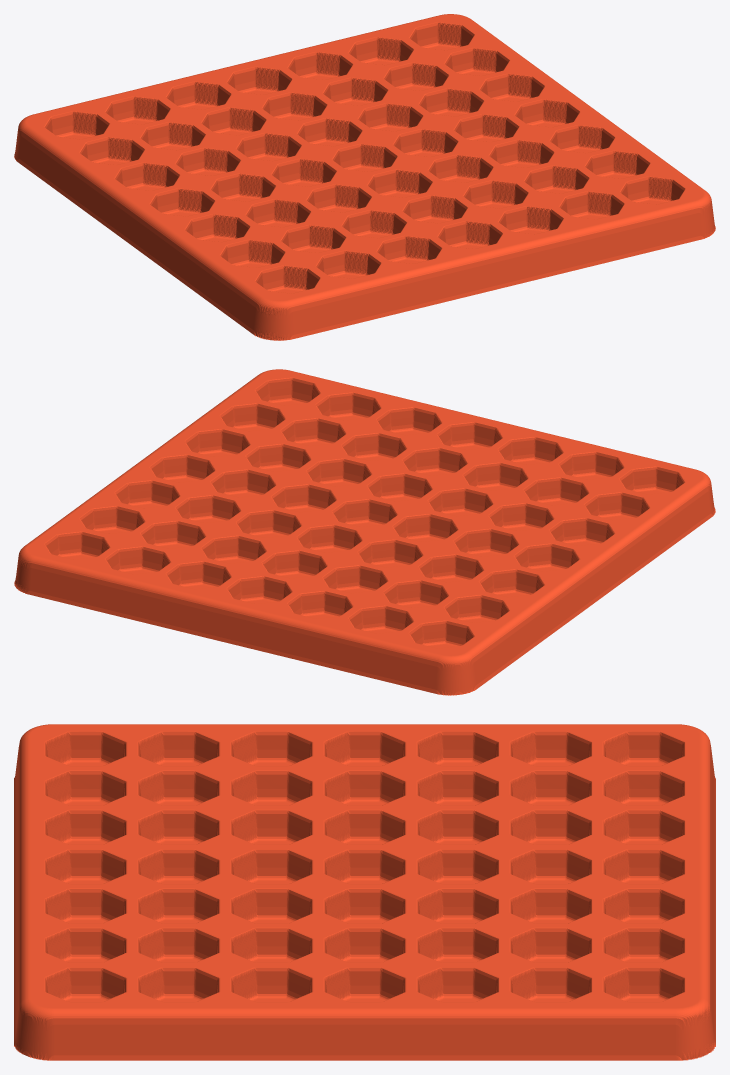
The model's file is mold.glb.
3 views of the same model, one above another, from view 1: azimuth 30°, elevation 25°; view 2: azimuth 150°, elevation 25°; view 3: azimuth 270°, elevation 25° (orthographic). The views are drawn at different scales.
Parts seen in each view (by area): view 1: geometry_0; view 2: geometry_0; view 3: geometry_0.
Part boxes in pixels (bbox=[...]): geometry_0: bbox=[14, 14, 715, 340]; geometry_0: bbox=[14, 369, 715, 695]; geometry_0: bbox=[14, 724, 715, 1060].
Size of the model in its own units: 0.1581 by 0.0114 by 0.1581.
